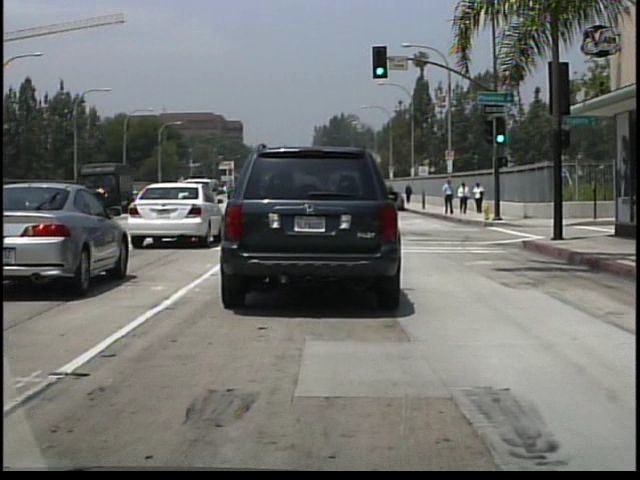person: (442, 178, 456, 217), (456, 182, 470, 217), (473, 181, 487, 215), (405, 183, 415, 205)
